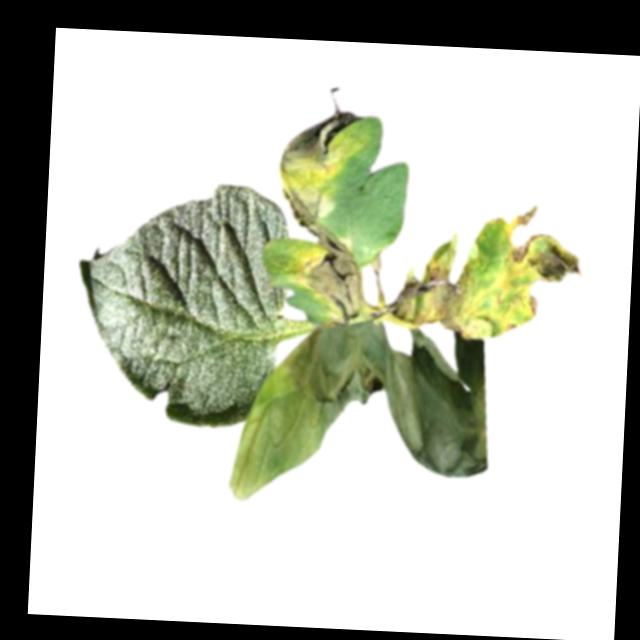Late_blight: (227, 316, 494, 513), (385, 198, 589, 346), (276, 107, 371, 234), (289, 233, 365, 320)
